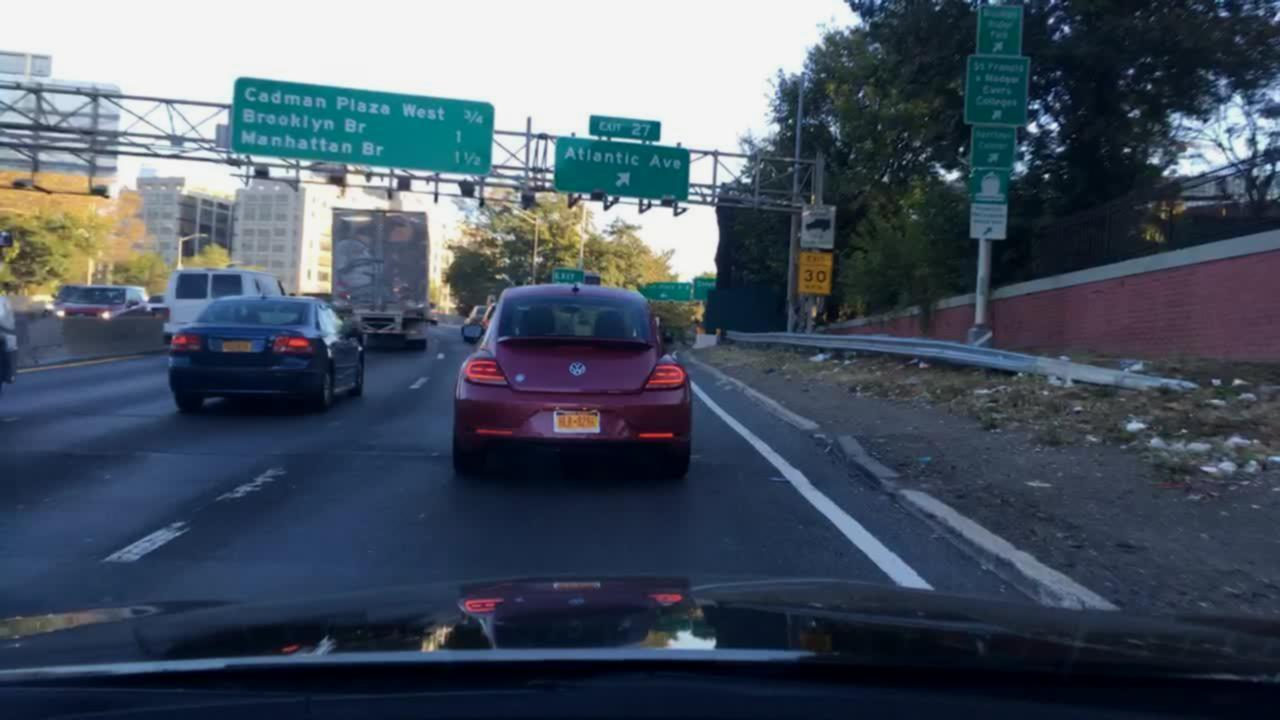Volkswagen: (562, 353, 595, 384)
